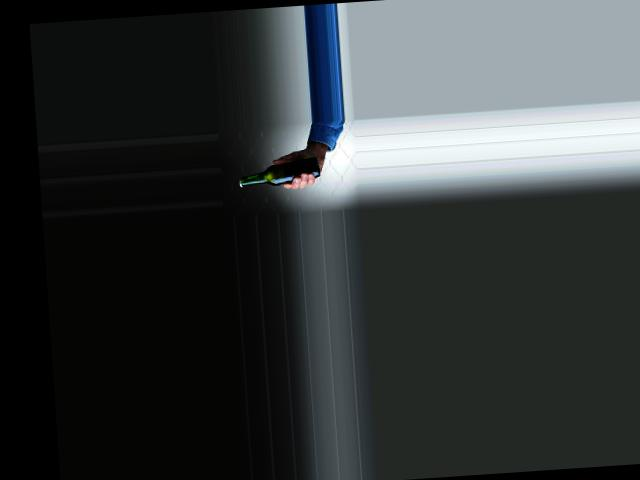beer: (238, 156, 319, 188)
